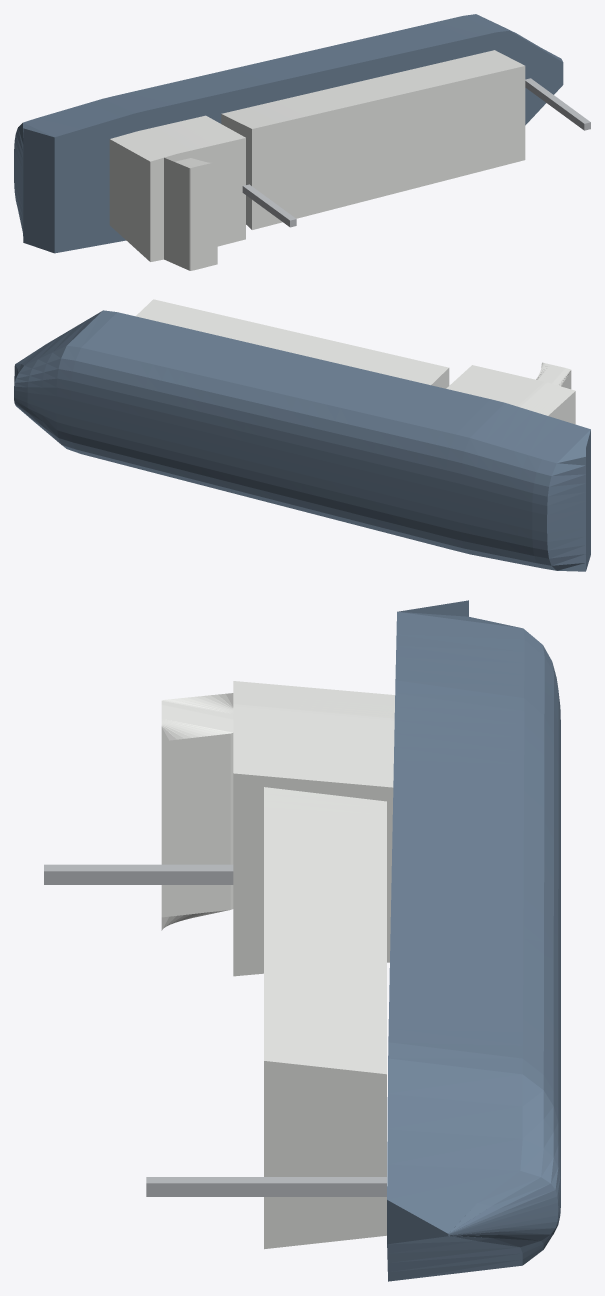
The model's file is loft-container-ship.glb.
3 renders of one model, top to bottom at view 1: azimuth 30°, elevation 25°; view 2: azimuth 150°, elevation 25°; view 3: azimuth 270°, elevation 25°, orthographic. The views are drawn at different scales.
Visible parts, largest first — view 1: container-ship; view 2: container-ship; view 3: container-ship.
Boxes of the visible parts, x1,y1,x2,y2 form: container-ship: (14, 14, 590, 270); container-ship: (14, 299, 590, 571); container-ship: (44, 600, 560, 1281).
Bounding box in the file's own units: 1.95 × 0.439 × 0.8189.
